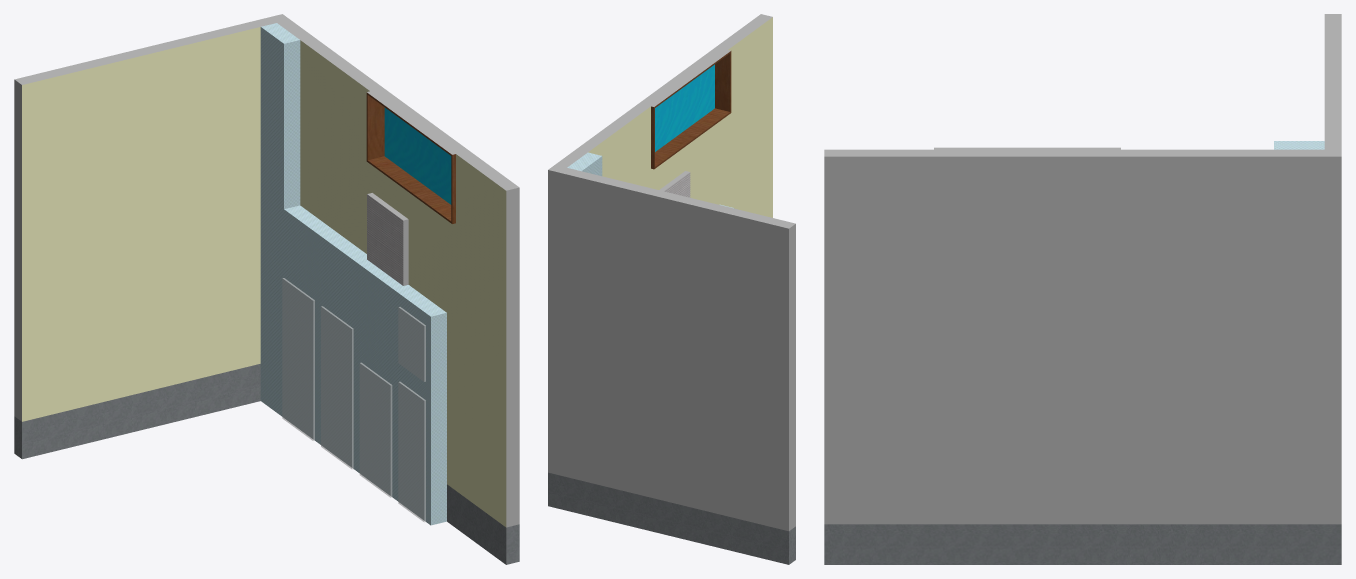
File: tomaki3.glb
The picture shows the model from 3 angles, left to right: view 1: azimuth 30°, elevation 25°; view 2: azimuth 150°, elevation 25°; view 3: azimuth 270°, elevation 25°; orthographic projection. The views are drawn at different scales.
Visible parts, largest first — view 1: 戸牧３_skp, Group_1_2, Group_0, Group_1, Group_3, Group_2, Group_4; view 2: 戸牧３_skp, Group_1_2; view 3: 戸牧３_skp.
Boxes of the visible parts, <box> form: 戸牧３_skp: <box>14,14,519,564</box>; Group_1_2: <box>260,23,446,525</box>; Group_0: <box>321,306,353,469</box>; Group_1: <box>282,278,314,440</box>; Group_3: <box>359,362,392,497</box>; Group_2: <box>398,381,425,522</box>; Group_4: <box>398,307,425,381</box>; 戸牧３_skp: <box>548,14,795,564</box>; Group_1_2: <box>567,152,734,208</box>; 戸牧３_skp: <box>824,14,1341,564</box>.
Size of the model in its own units: 300 by 400 by 459.
Materials: 12 (5 with a texture image).
